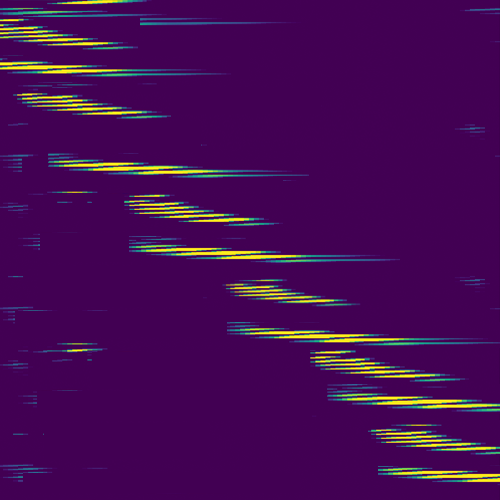semblance: (9, 86, 170, 122), (123, 190, 266, 225), (129, 238, 307, 266), (49, 153, 236, 179), (307, 347, 451, 379), (1, 16, 123, 51), (325, 388, 500, 412), (369, 422, 500, 452), (223, 276, 341, 307), (235, 324, 416, 343), (1, 59, 129, 76), (377, 467, 500, 483)
